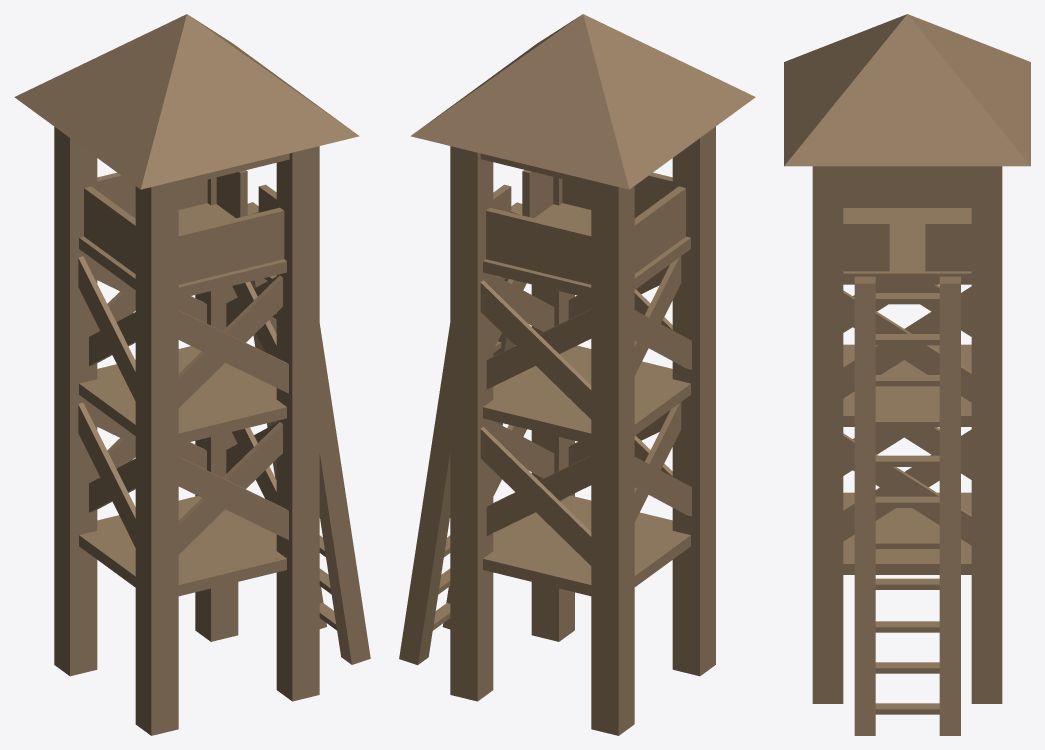
Rendered from env_Watchtower.fbx.
3 renders of one model, left to right at view 1: azimuth 30°, elevation 25°; view 2: azimuth 150°, elevation 25°; view 3: azimuth 270°, elevation 25°, orthographic. The views are drawn at different scales.
Visible parts, largest first — view 1: env_Watchtower; view 2: env_Watchtower; view 3: env_Watchtower.
Part boxes in pixels (bbox=[...]): env_Watchtower: bbox=[14, 14, 370, 735]; env_Watchtower: bbox=[399, 14, 755, 735]; env_Watchtower: bbox=[784, 14, 1030, 735].
Bounding box in the file's own units: 357 × 854 × 294.
